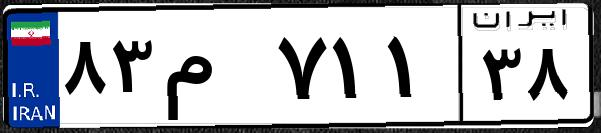1: (385, 28, 445, 110), (330, 28, 385, 110)
3: (475, 38, 525, 113), (110, 28, 158, 98)
7: (270, 28, 330, 110)
8: (57, 26, 110, 100), (525, 38, 570, 115)
م: (158, 20, 270, 120)
